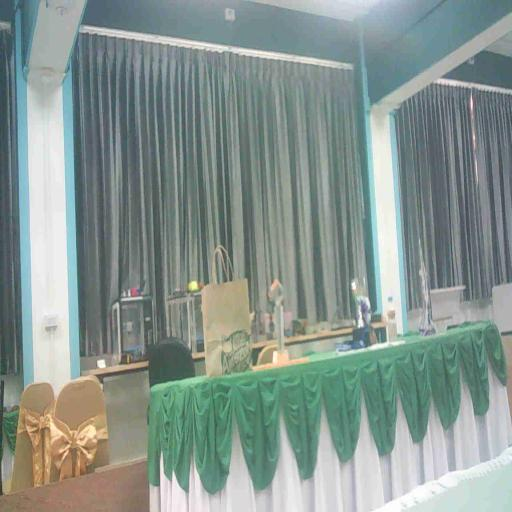bag: (201, 282, 256, 382)
